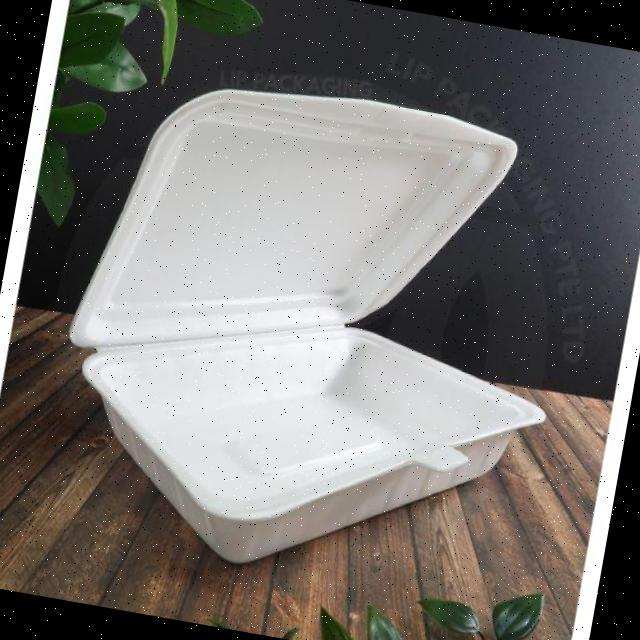styrofoam: (32, 52, 596, 612)
